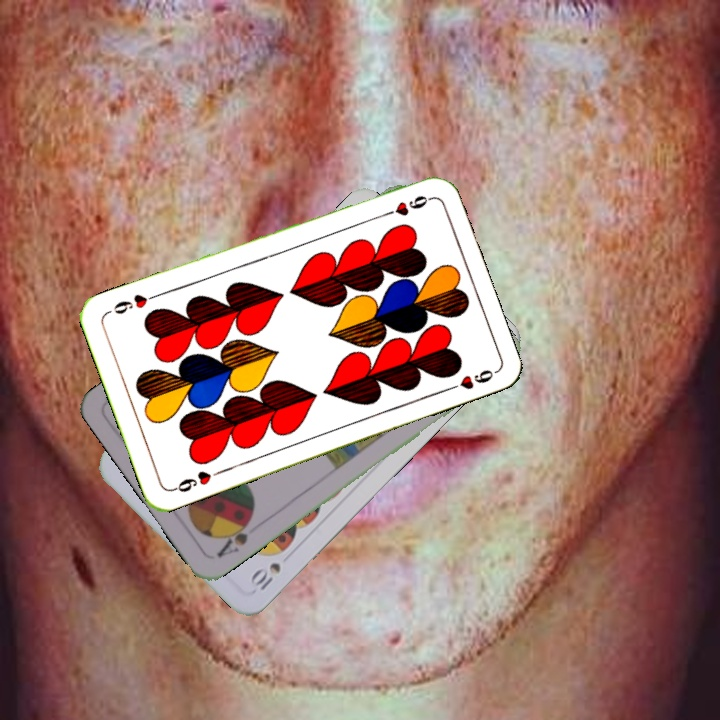H9: (376, 191, 434, 220), (168, 466, 224, 495)
S10: (245, 558, 284, 593)
SA: (212, 512, 256, 561)
